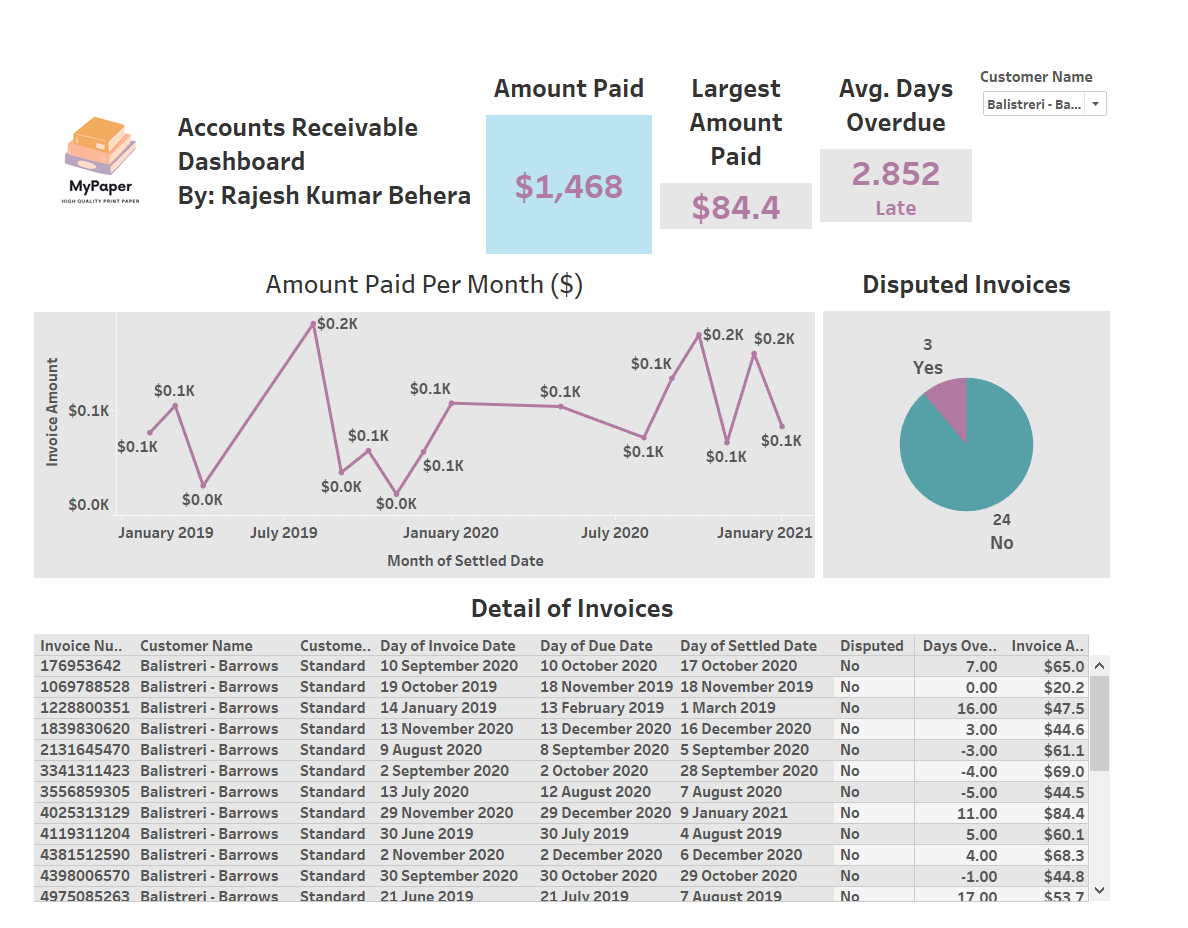

This screenshot's page, from the dashboard's own definition file:
{"tool":"tableau","page":{"name":"Accounts Receivable Dashboard","canvas":[1000,1000],"units":"permille","ordinal":0},"visuals":[{"type":"image","param":"E:/Tableau/Mypaper/MyPaper.png","box":[7.3,10.4,127.3,228]},{"type":"text","box":[134.5,10.4,283.6,228]},{"type":"worksheet","title":"Amount Paid","mark":"Automatic","box":[418.2,10.4,158.2,228]},{"type":"worksheet","title":"Largest Amount Paid","mark":"Automatic","box":[576.4,10.4,145.5,228]},{"type":"worksheet","title":"Avg. Days Overdue","mark":"Automatic","box":[721.8,10.4,145.5,228]},{"type":"filter","title":"Amount Paid Per Month","param":"[federated.1ud89w01y3vorj19k532x0i62450].[none:CustomerName:nk]","box":[867.3,10.4,125.5,228]},{"type":"worksheet","title":"Amount Paid Per Month","mark":"Automatic","rows":["InvoiceAmount"],"cols":["SettledDate"],"box":[7.3,238.3,717.3,375.7]},{"type":"worksheet","title":"Disputed","mark":"Pie","box":[724.5,238.3,268.2,375.7]},{"type":"worksheet","title":"Invoice List","mark":"Automatic","rows":["invoiceNumber","CustomerName","Customer Type","InvoiceDate","DueDate","SettledDate","Disputed"],"box":[7.3,614,985.5,375.7]}]}

Visuals, with their boxes on the dashboard's canvas, which has no fixed pixel size, in thousandths of its width and height (x1, y1, x2, y2). These are canvas units, not pixel positions in the 1188x928 screenshot, which may show the page scaled, cropped or inside an application window:
image: left=7, top=10, right=135, bottom=238
text: left=134, top=10, right=418, bottom=238
"Amount Paid" worksheet: left=418, top=10, right=576, bottom=238
"Largest Amount Paid" worksheet: left=576, top=10, right=722, bottom=238
"Avg. Days Overdue" worksheet: left=722, top=10, right=867, bottom=238
"Amount Paid Per Month" filter: left=867, top=10, right=993, bottom=238
"Amount Paid Per Month" worksheet: left=7, top=238, right=725, bottom=614
"Disputed" worksheet (Pie marks): left=724, top=238, right=993, bottom=614
"Invoice List" worksheet: left=7, top=614, right=993, bottom=990
